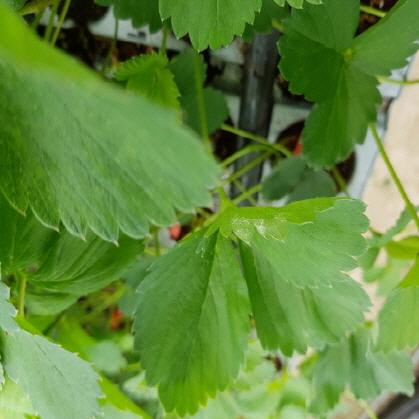Powdery Mildew Leaf: (201, 195, 371, 290)
